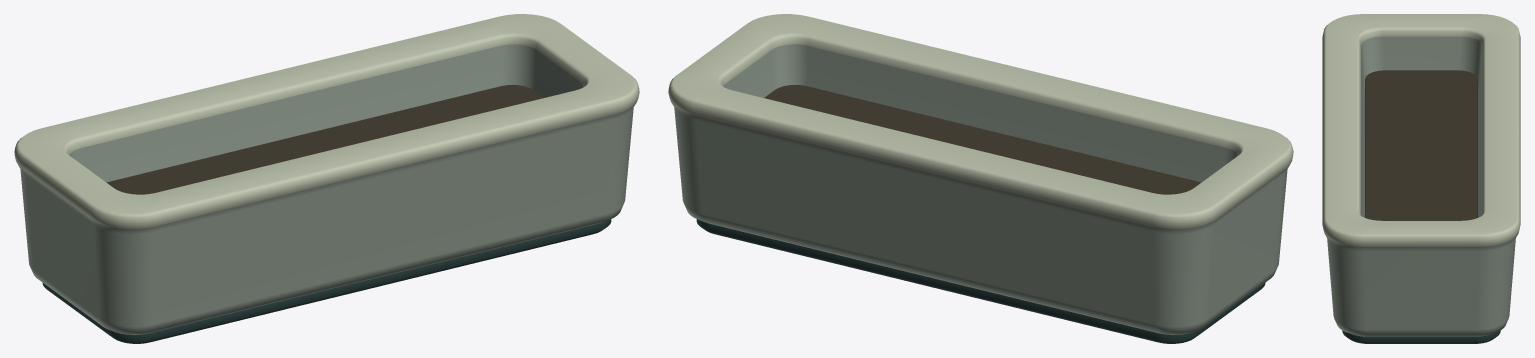
File: city_planting_01.glb
3 views of the same model, side by side, from view 1: azimuth 30°, elevation 25°; view 2: azimuth 150°, elevation 25°; view 3: azimuth 270°, elevation 25° (orthographic). The views are drawn at different scales.
Visible parts, largest first — view 1: rounded_cast_trough, separate_recessed_soil_insert, recessed_ground_foot; view 2: rounded_cast_trough, separate_recessed_soil_insert, recessed_ground_foot; view 3: rounded_cast_trough, separate_recessed_soil_insert, recessed_ground_foot.
Part boxes in pixels (box(x1,y1,x2,y2)): rounded_cast_trough: box(14, 14, 639, 334); separate_recessed_soil_insert: box(106, 85, 543, 194); recessed_ground_foot: box(42, 219, 611, 343); rounded_cast_trough: box(668, 14, 1293, 334); separate_recessed_soil_insert: box(764, 85, 1201, 194); recessed_ground_foot: box(696, 219, 1265, 343); rounded_cast_trough: box(1322, 14, 1520, 336); separate_recessed_soil_insert: box(1365, 70, 1477, 220); recessed_ground_foot: box(1342, 330, 1500, 343).
Size of the model in its own units: 2.4 by 0.6 by 0.9.
